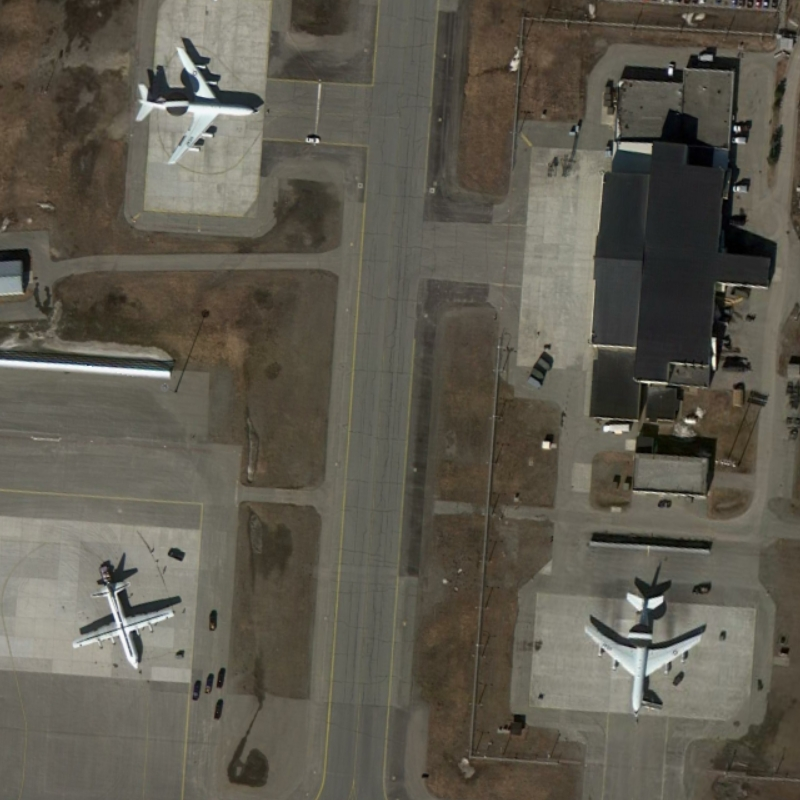A2: (63, 573, 181, 673)
A7: (128, 39, 261, 170), (580, 589, 707, 721)
